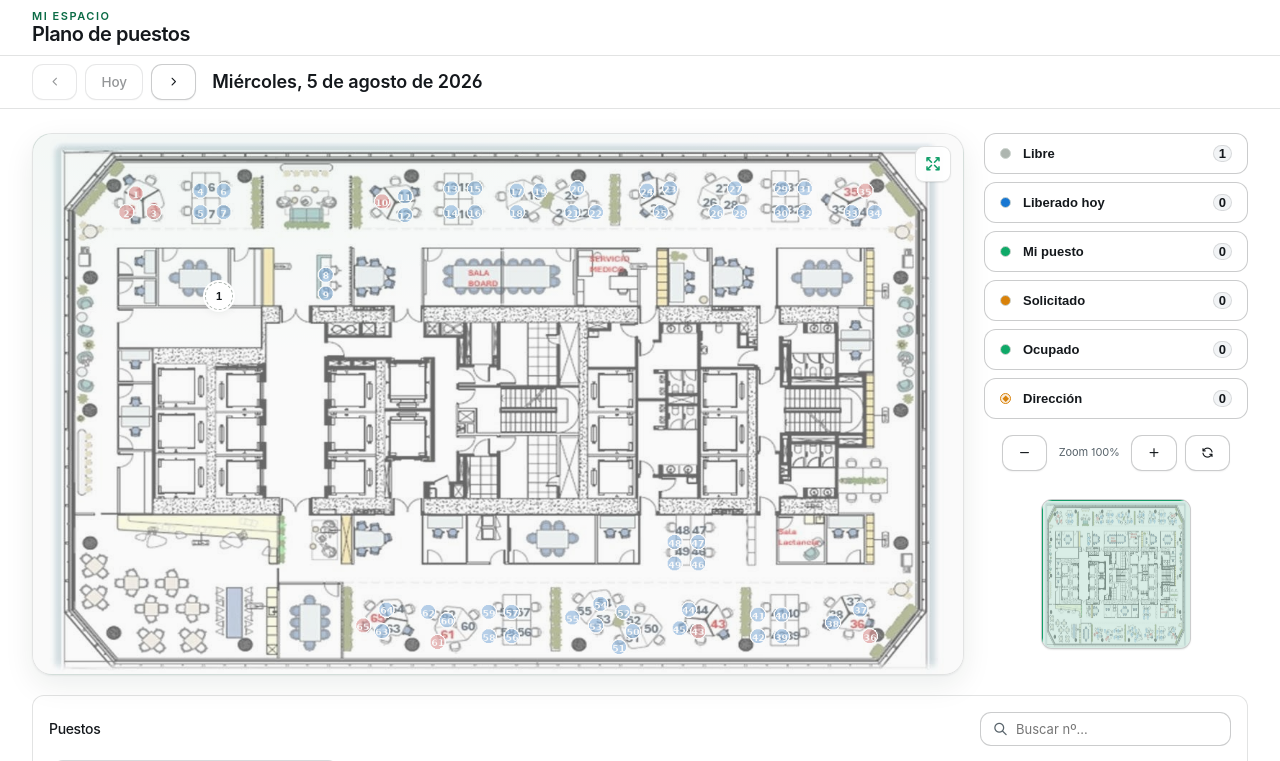
Test case: FloorPlanPage › should_show_success_feedback_when_requesting_a_free_desk
What coordinates should you click on to do the following:
click the button named "puesto 1"
I would click on:
 (219, 296)
Its box is x1=205 y1=282 x2=233 y2=310.
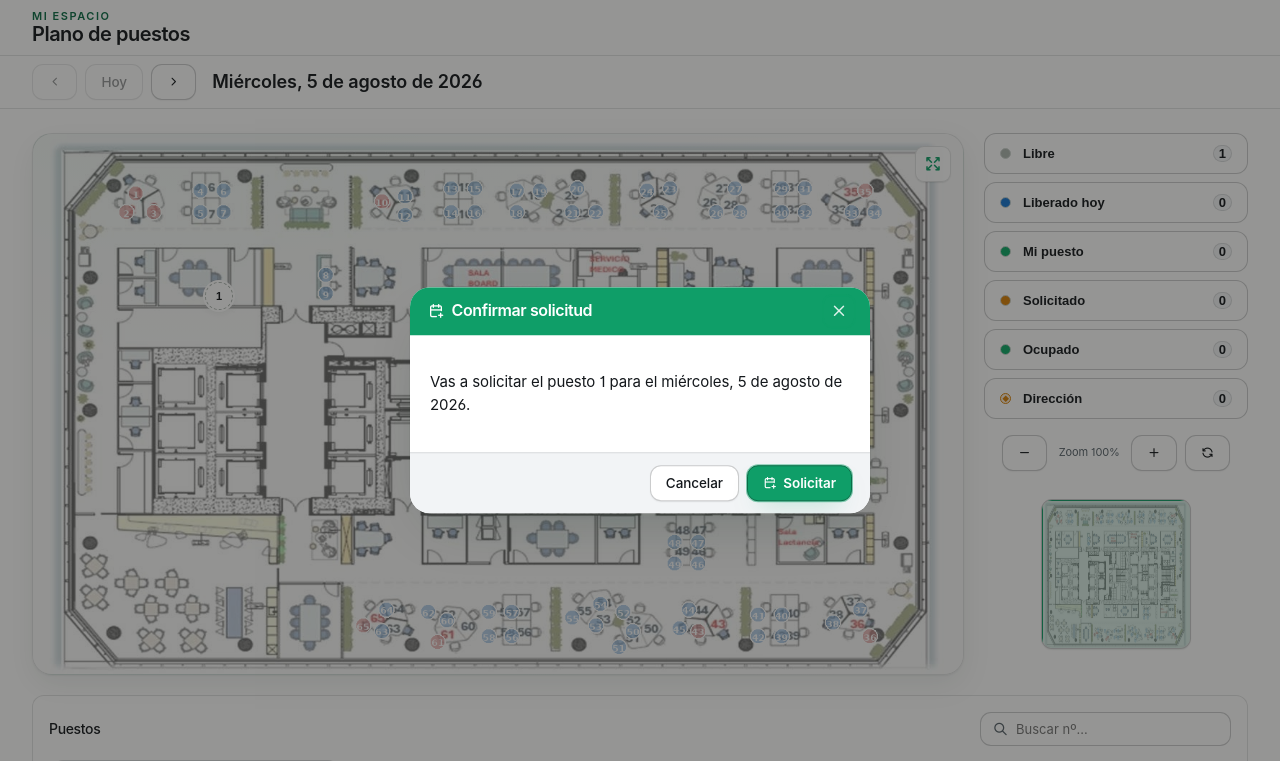
What coordinates should you click on to do the following:
click the button "Solicitar"
I would click on:
 (799, 483)
Its box is x1=747 y1=465 x2=852 y2=501.
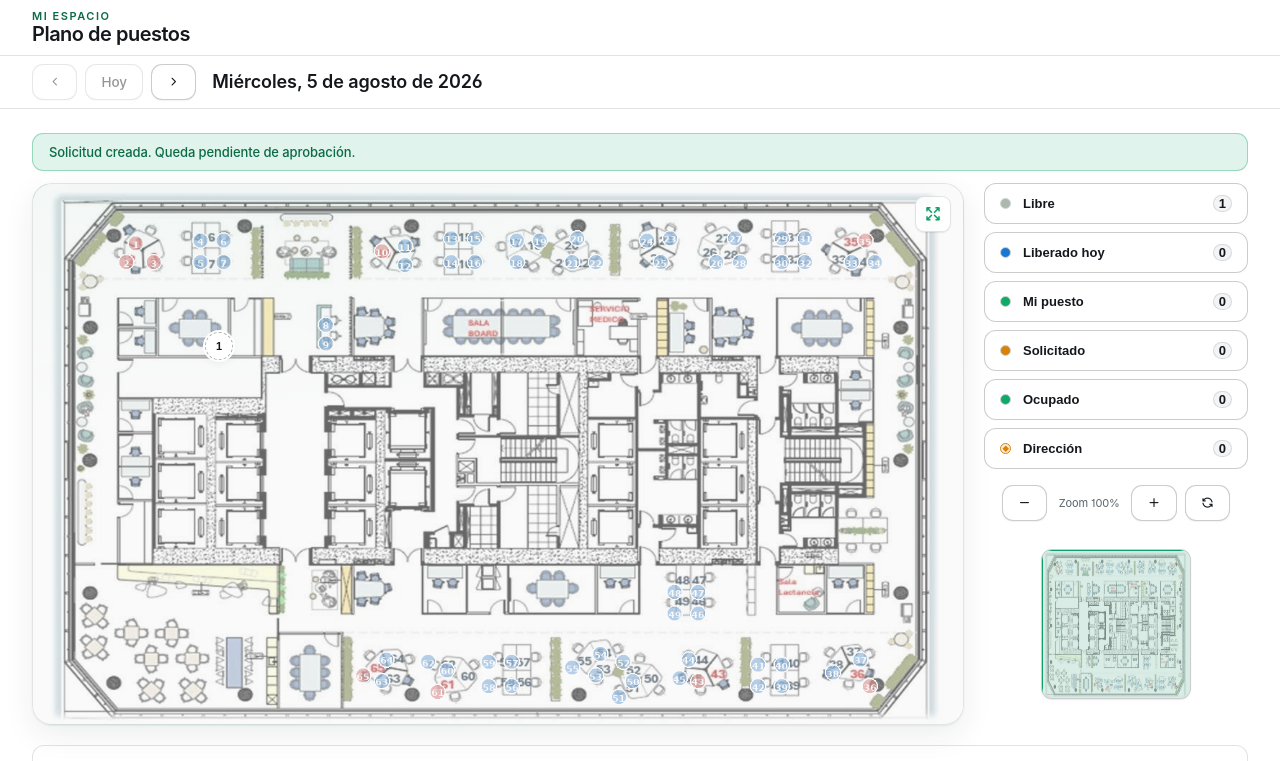
Expected: the text "Solicitud creada. Queda pendiente de aprobación." is shown, x1=32 y1=133 x2=1248 y2=171
